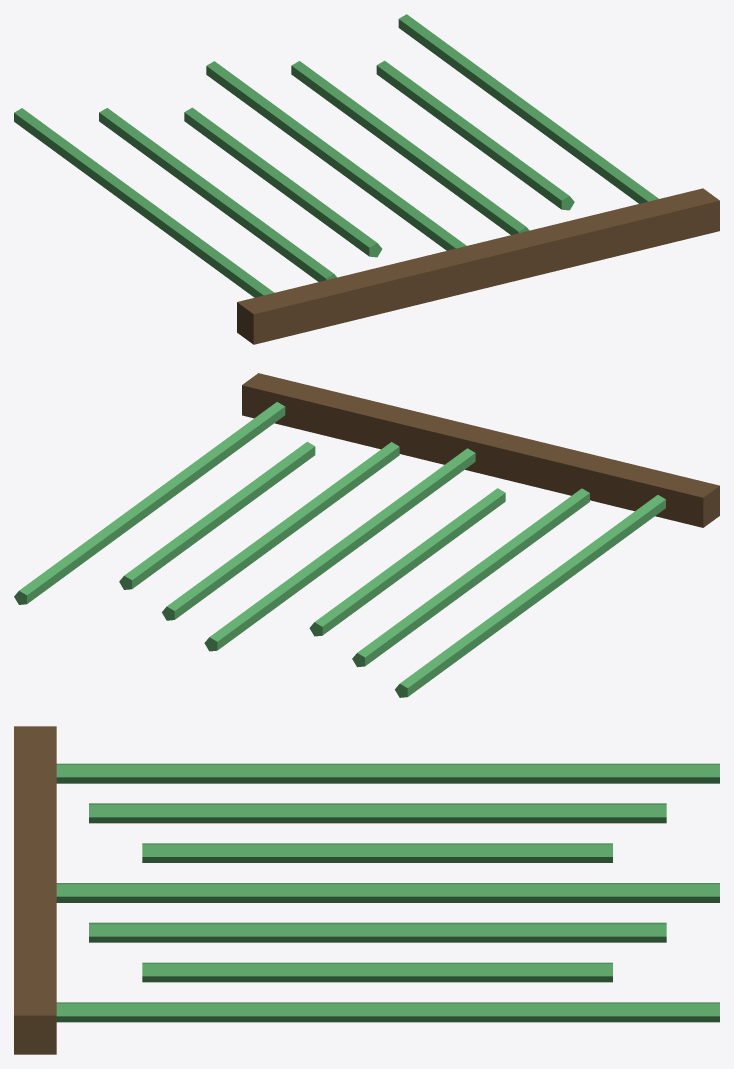
Rendered from swamp_hanging_vines.glb.
3 views of the same model, one above another, from view 1: azimuth 30°, elevation 25°; view 2: azimuth 150°, elevation 25°; view 3: azimuth 270°, elevation 25° (orthographic). The views are drawn at different scales.
Parts seen in each view (by area): view 1: branch, vine_6, vine_3, vine_0, vine_1, vine_4, vine_5, vine_2; view 2: branch, vine_6, vine_3, vine_0, vine_4, vine_1, vine_5, vine_2; view 3: branch, vine_0, vine_6, vine_3, vine_1, vine_4, vine_5, vine_2.
Part boxes in pixels (left/top/right/bottom): branch: left=237, top=188, right=719, bottom=344; vine_6: left=398, top=14, right=658, bottom=203; vine_3: left=206, top=61, right=466, bottom=250; vine_0: left=14, top=108, right=274, bottom=297; vine_1: left=99, top=108, right=336, bottom=281; vine_4: left=291, top=61, right=529, bottom=234; vine_5: left=376, top=60, right=574, bottom=210; vine_2: left=184, top=107, right=382, bottom=257; branch: left=242, top=373, right=719, bottom=527; vine_6: left=14, top=402, right=285, bottom=604; vine_3: left=204, top=448, right=475, bottom=651; vine_0: left=395, top=495, right=665, bottom=697; vine_4: left=162, top=442, right=399, bottom=620; vine_1: left=352, top=488, right=589, bottom=667; vine_5: left=119, top=441, right=315, bottom=589; vine_2: left=309, top=488, right=505, bottom=636; branch: left=14, top=726, right=56, bottom=1054; vine_0: left=56, top=763, right=719, bottom=783; vine_6: left=56, top=1002, right=719, bottom=1022; vine_3: left=56, top=883, right=719, bottom=902; vine_1: left=89, top=803, right=666, bottom=823; vine_4: left=89, top=922, right=666, bottom=942; vine_5: left=142, top=962, right=612, bottom=982; vine_2: left=142, top=843, right=612, bottom=862.
Bounding box in the file's own units: 1.6 × 0.1 × 1.65.
